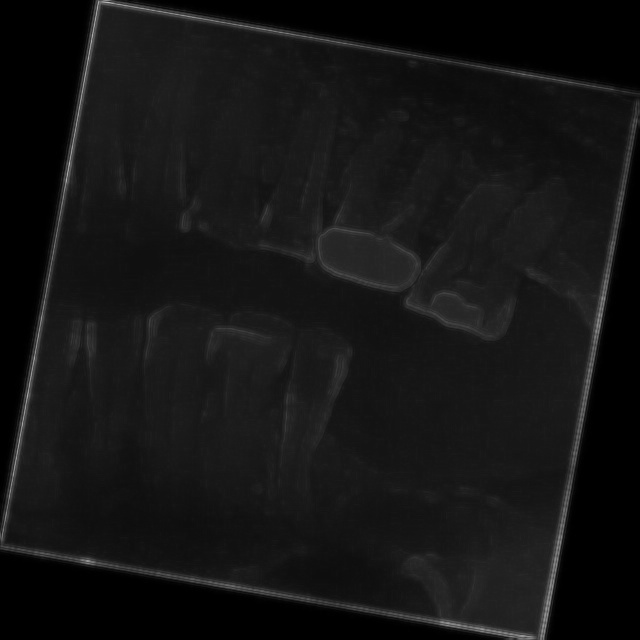Class 2- incomplete endodontic treatment: (302, 100, 456, 319)
cavity: (400, 140, 582, 375)
